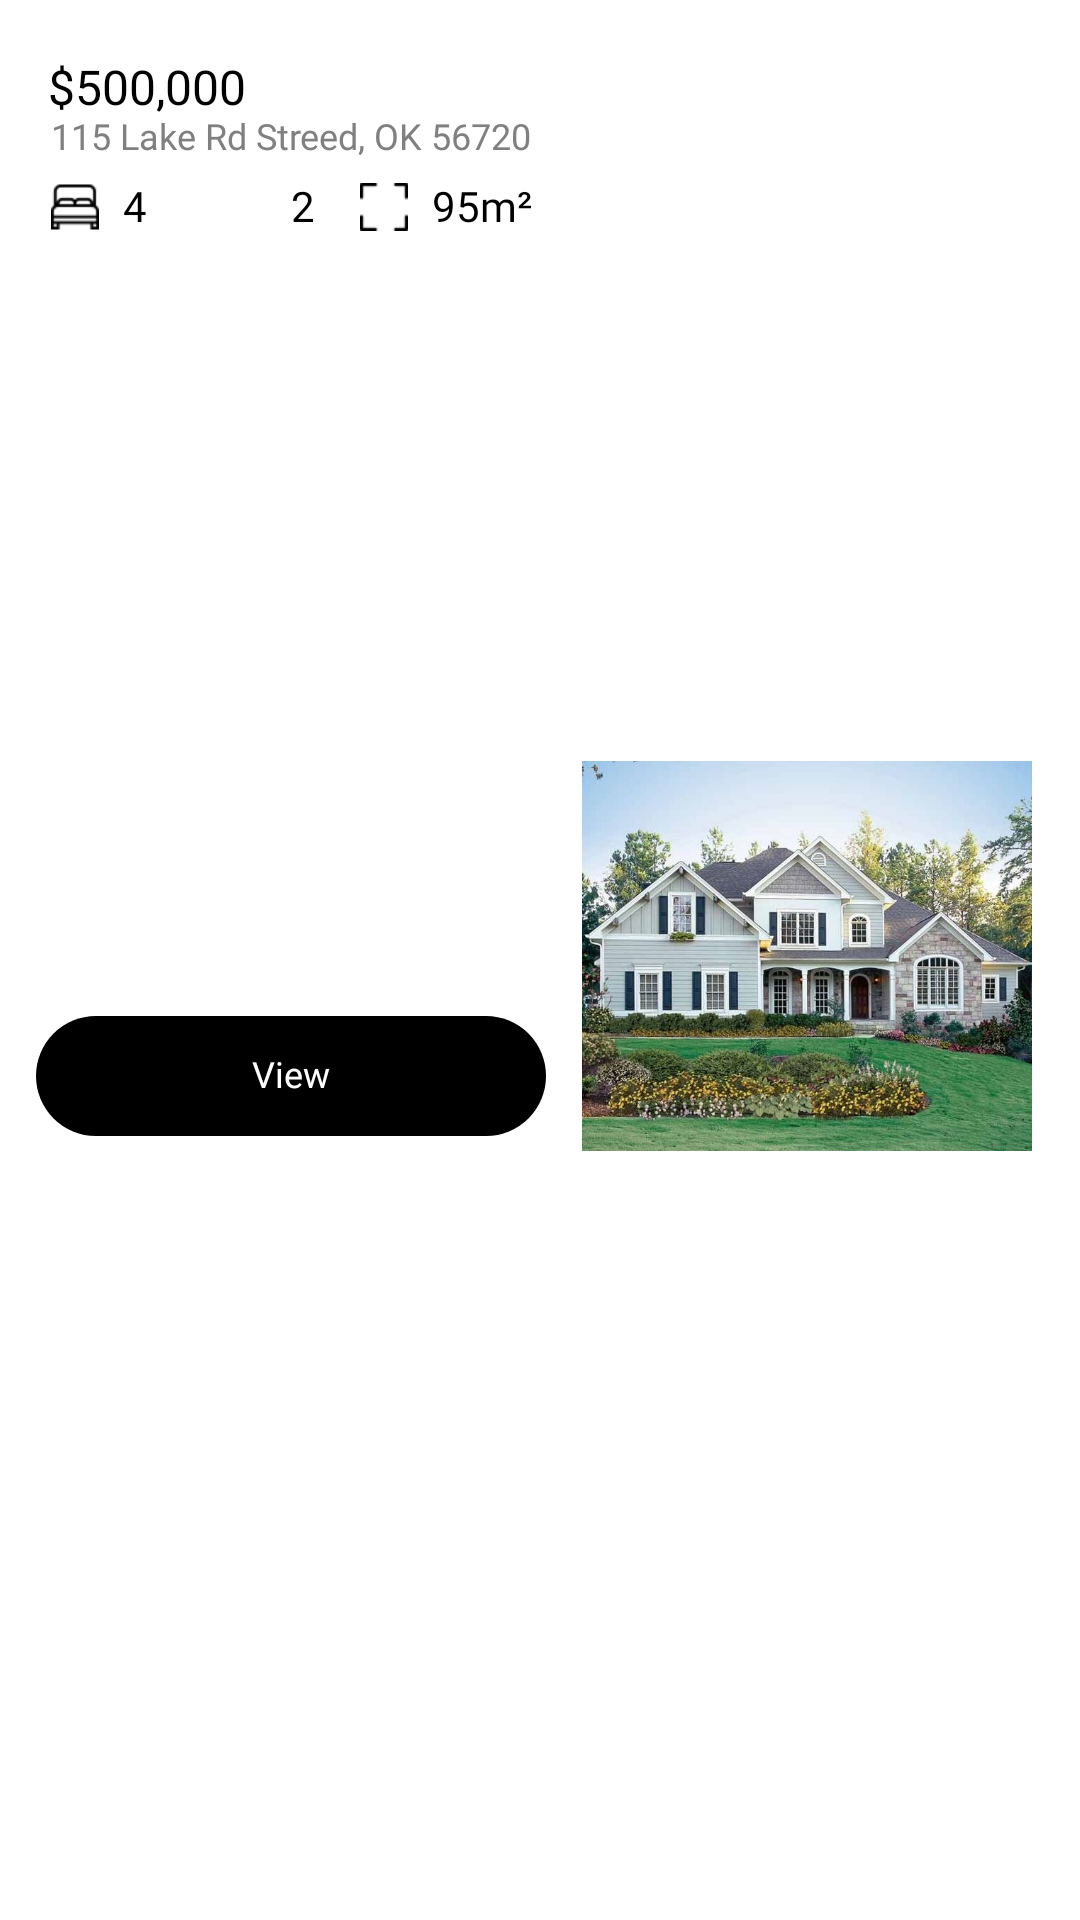

Point at icon controls on the screen. Image size 1080 × 1920, points as point (x, y).
bed: point (75, 207)
square: point (384, 207)
